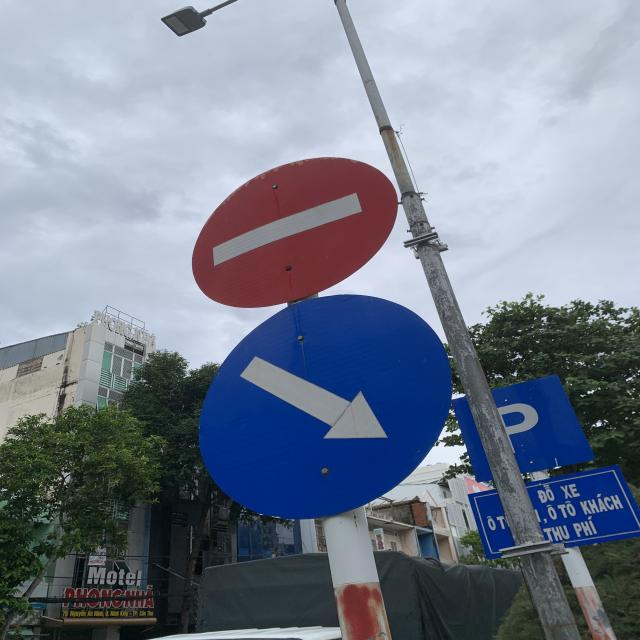Cam_Di_Nguoc_Chieu: (188, 153, 400, 309)
Chi_Huong_Di_Phai: (199, 296, 450, 519)
